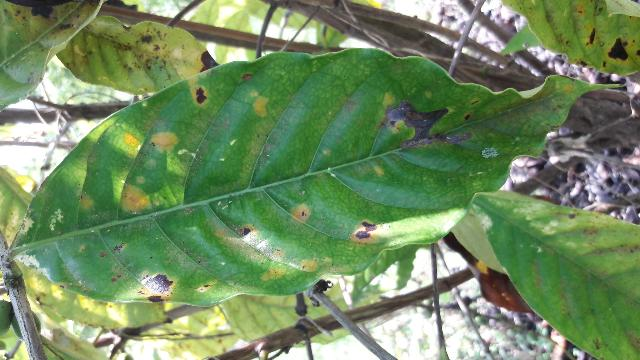red_spider_mite: (4, 47, 597, 308)
